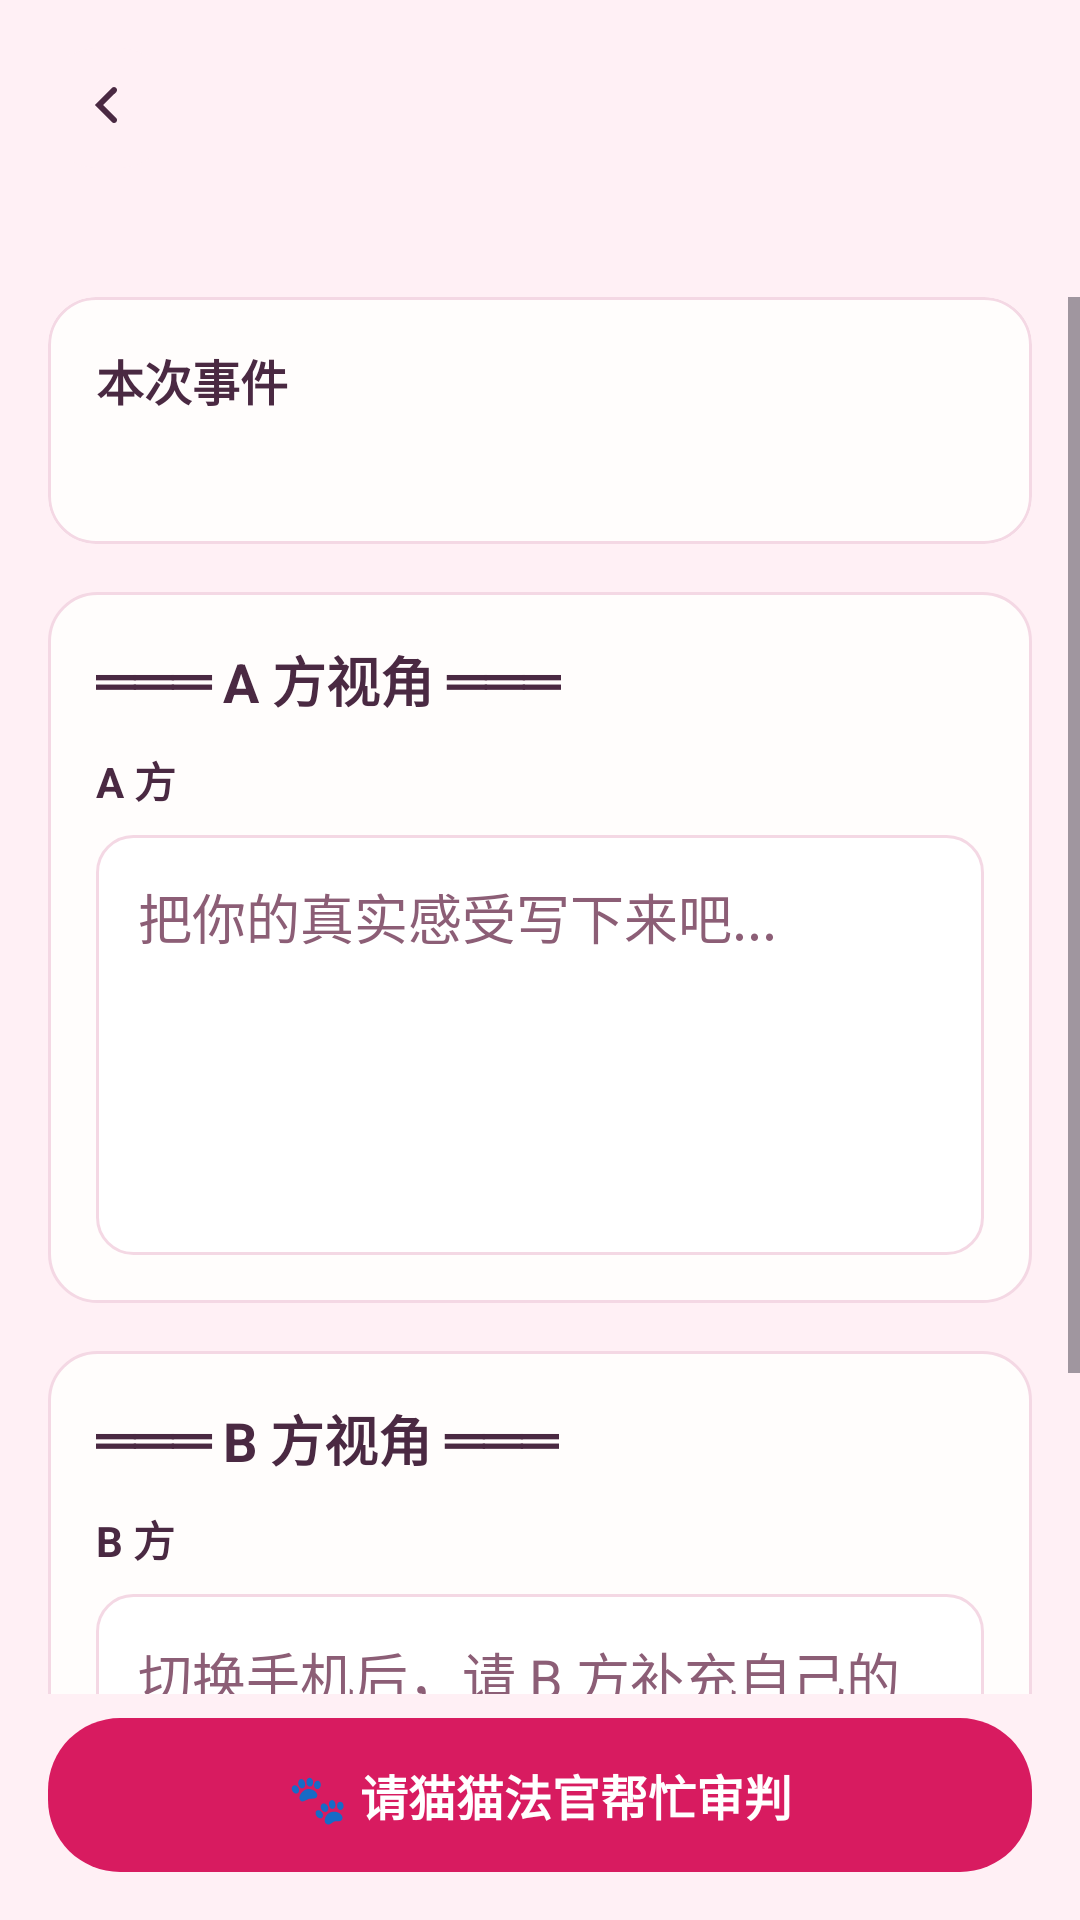

Screen size 1080px×1920px. Icon name, then its center in pixels as [x,y]:
返回: [106,105]
